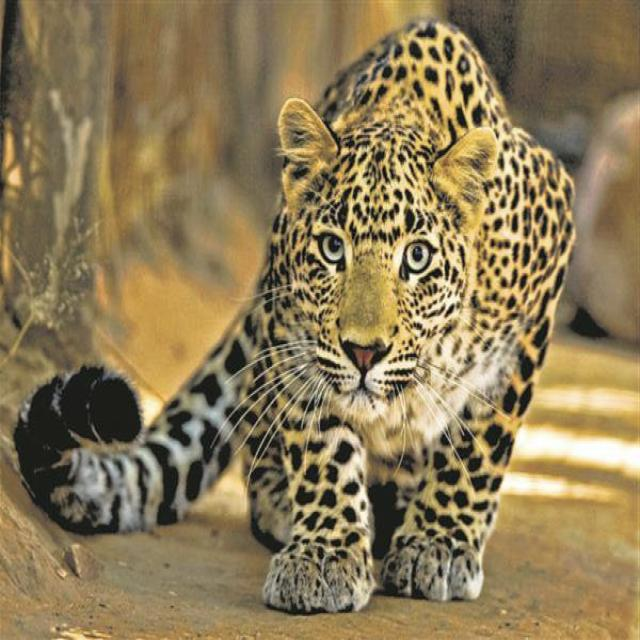leopard: (14, 20, 575, 612)
